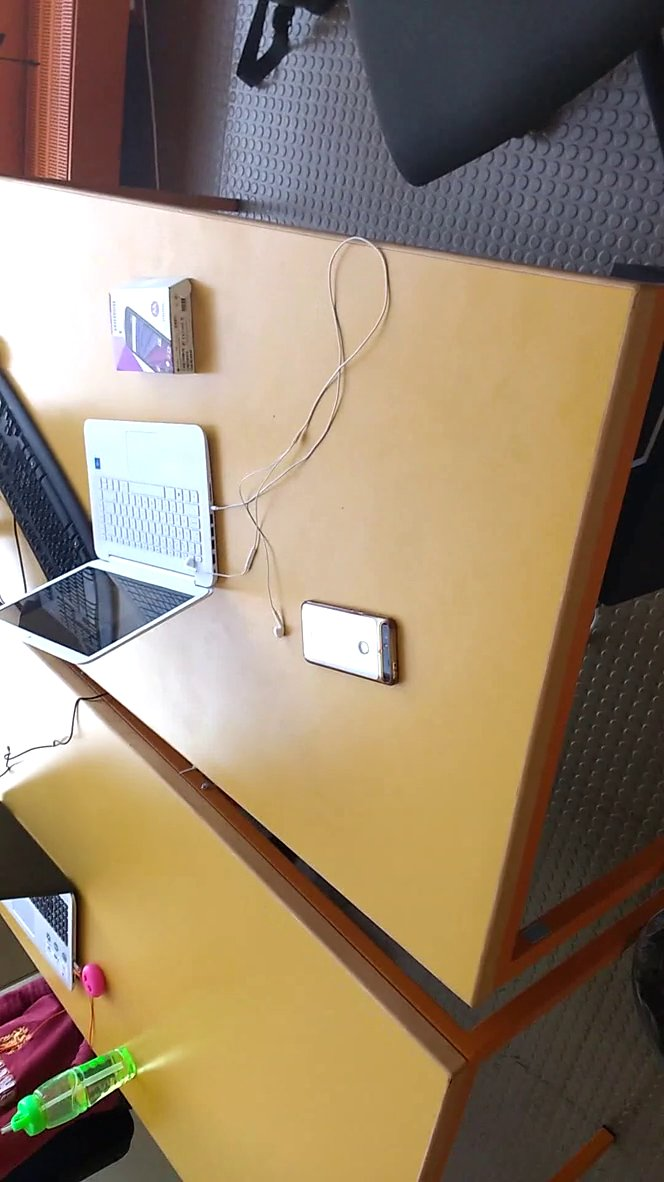laptop: (1, 406, 234, 674)
phone: (296, 594, 415, 697)
